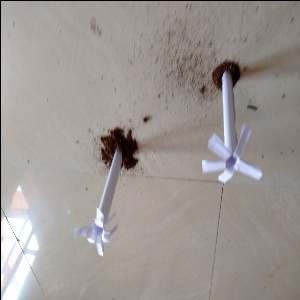weed: (199, 68, 259, 185), (83, 139, 127, 249)
